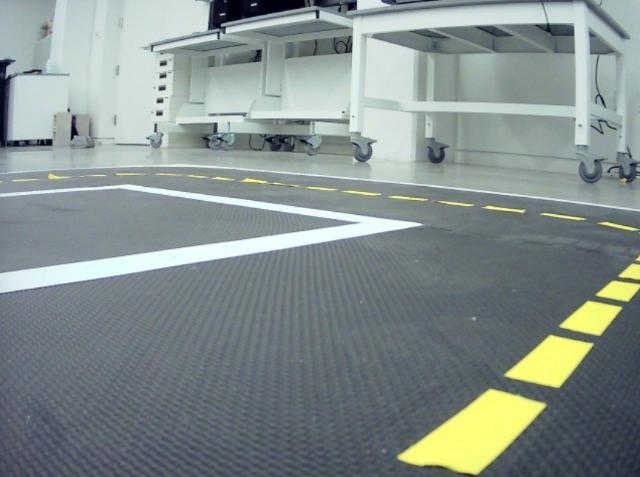whiteline: (2, 221, 421, 296), (122, 184, 421, 226), (0, 183, 124, 202)
yellowline: (394, 256, 640, 477), (151, 171, 639, 240), (0, 172, 152, 185)
